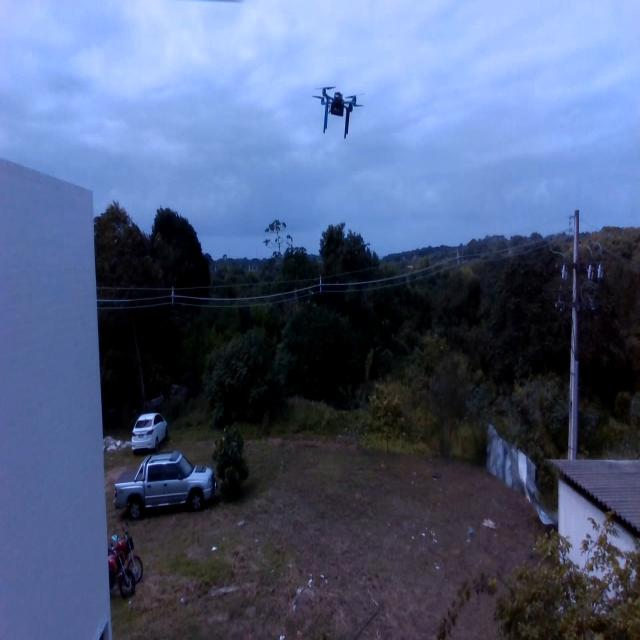-uav-: (308, 72, 368, 148)
